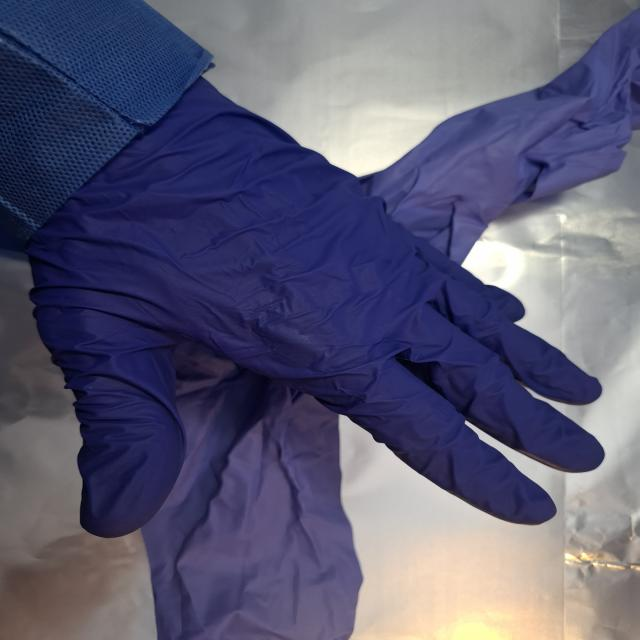glove_on: (19, 83, 610, 541)
